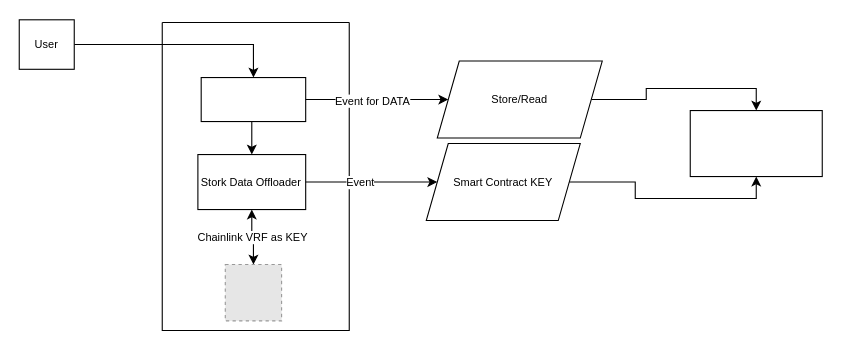
Some shapes in this 842 by 350 pixel diagram are drawn without their labels. Grey dashed boxes stand in for pictures. Here are the shapes that lost their labels. From the top down, the centre of each, then its label:
At pixel 253 99: "Any Smart Contract".
At pixel 755 143: "StorkMiners".
